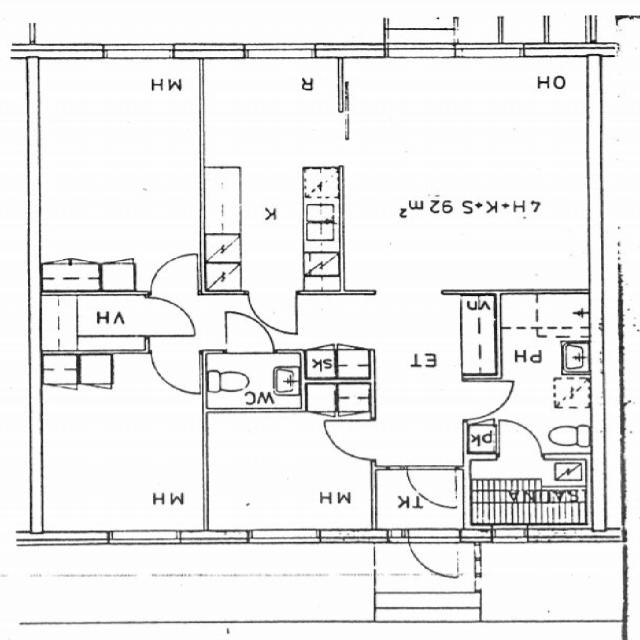door: (408, 528, 457, 582), (322, 420, 375, 460), (151, 350, 199, 394), (226, 311, 273, 355), (408, 466, 456, 509), (463, 381, 515, 420), (249, 290, 296, 333), (144, 298, 196, 336), (152, 253, 198, 294), (499, 420, 541, 460)
